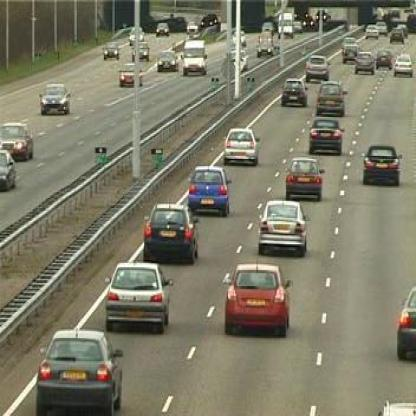other: (216, 252, 296, 339), (218, 120, 264, 167), (180, 37, 209, 76)
